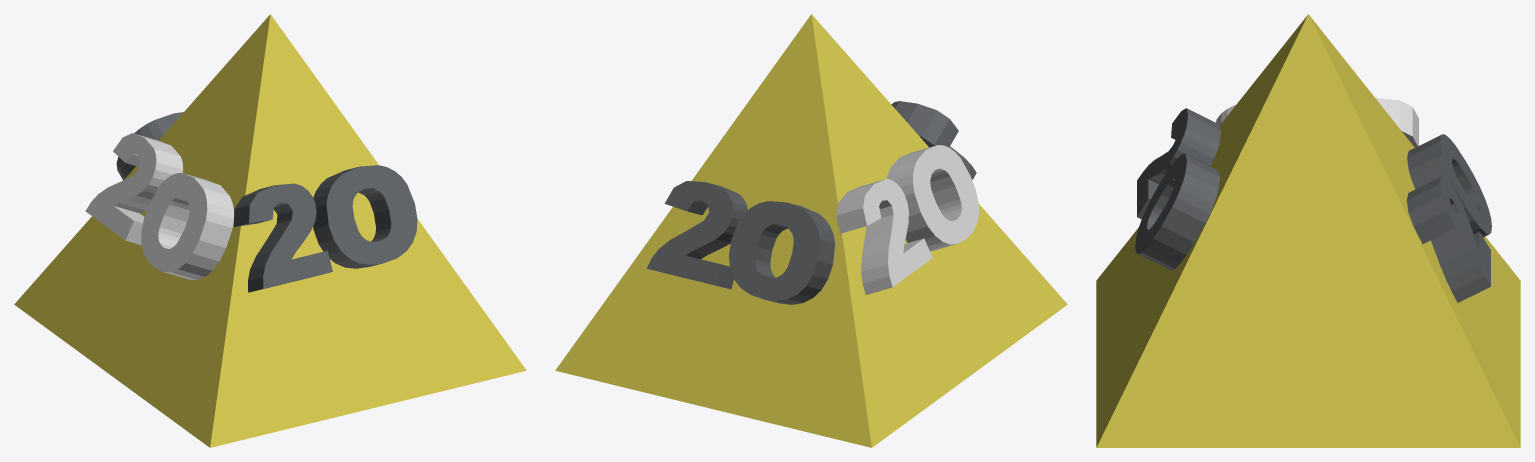
File: number20.glb
3 renders of one model, left to right at view 1: azimuth 30°, elevation 25°; view 2: azimuth 150°, elevation 25°; view 3: azimuth 270°, elevation 25°, orthographic. The views are drawn at different scales.
Visible parts, largest first — view 1: Mesh_Mesh_head_geo.001_lambert2SG.001; view 2: Mesh_Mesh_head_geo.001_lambert2SG.001; view 3: Mesh_Mesh_head_geo.001_lambert2SG.001.
Boxes of the visible parts, <box> form: Mesh_Mesh_head_geo.001_lambert2SG.001: <box>14,14,526,447</box>; Mesh_Mesh_head_geo.001_lambert2SG.001: <box>555,14,1067,447</box>; Mesh_Mesh_head_geo.001_lambert2SG.001: <box>1096,14,1520,447</box>.
Bounding box in the file's own units: 42 × 41 × 45.
